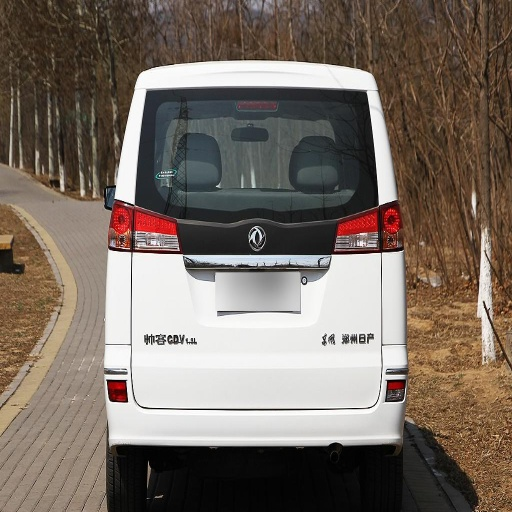back_bumper: (107, 253, 403, 444), (103, 254, 131, 331)
tailgate: (214, 190, 352, 283)
trunk: (123, 194, 391, 405), (7, 196, 86, 277)
